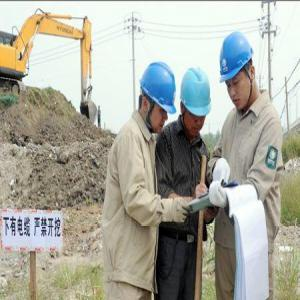blue: (136, 59, 178, 136), (219, 33, 258, 115), (179, 66, 212, 138)
